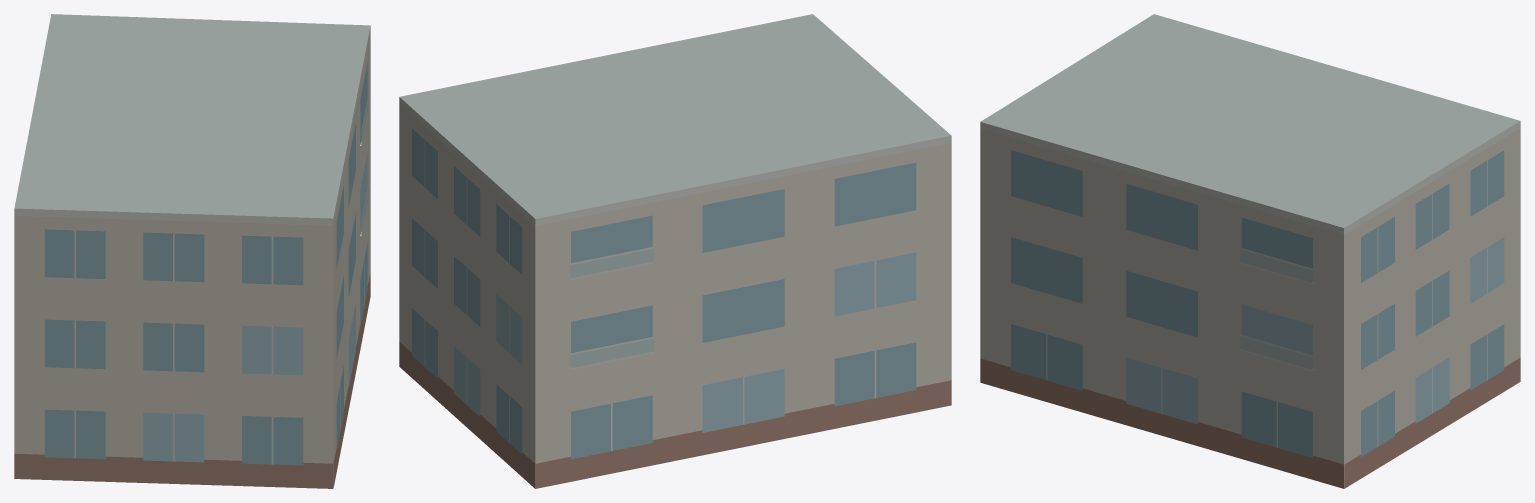
The model's file is survey-upis-32703962.glb.
3 views of the same model, side by side, from view 1: azimuth 30°, elevation 25°; view 2: azimuth 150°, elevation 25°; view 3: azimuth 270°, elevation 25° (orthographic). The views are drawn at different scales.
Parts seen in each view (by area): view 1: survey-upis-32703962.tmp; view 2: survey-upis-32703962.tmp; view 3: survey-upis-32703962.tmp.
Boxes of the visible parts, x1,y1,x2,y2 form: survey-upis-32703962.tmp: (14,14,370,488); survey-upis-32703962.tmp: (399,14,951,488); survey-upis-32703962.tmp: (980,14,1520,488).
Size of the model in its own units: 16.12 by 9.15 by 17.19.
